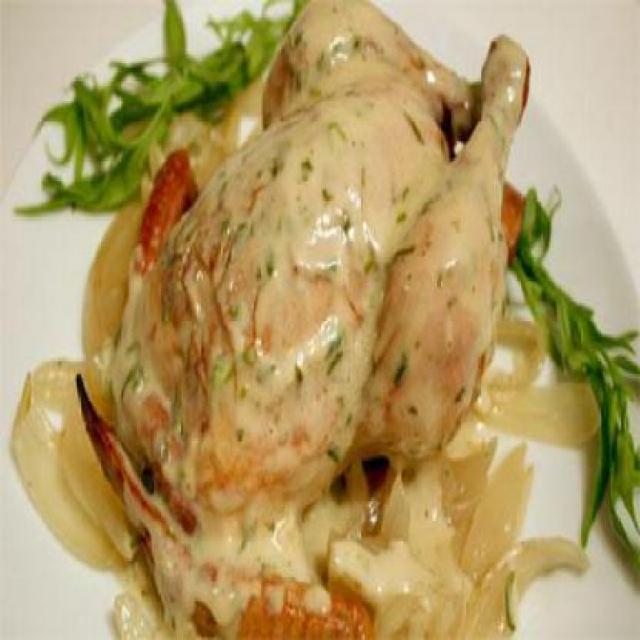Chicken roast: (102, 21, 535, 506)
